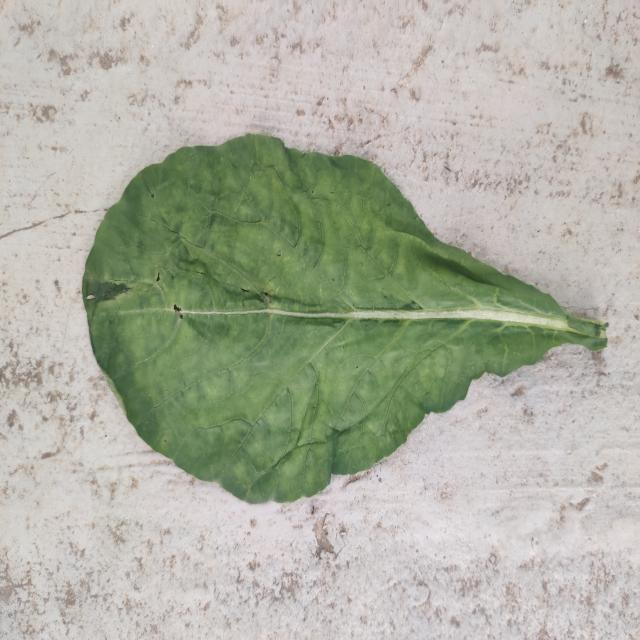raddish: (82, 135, 606, 503)
